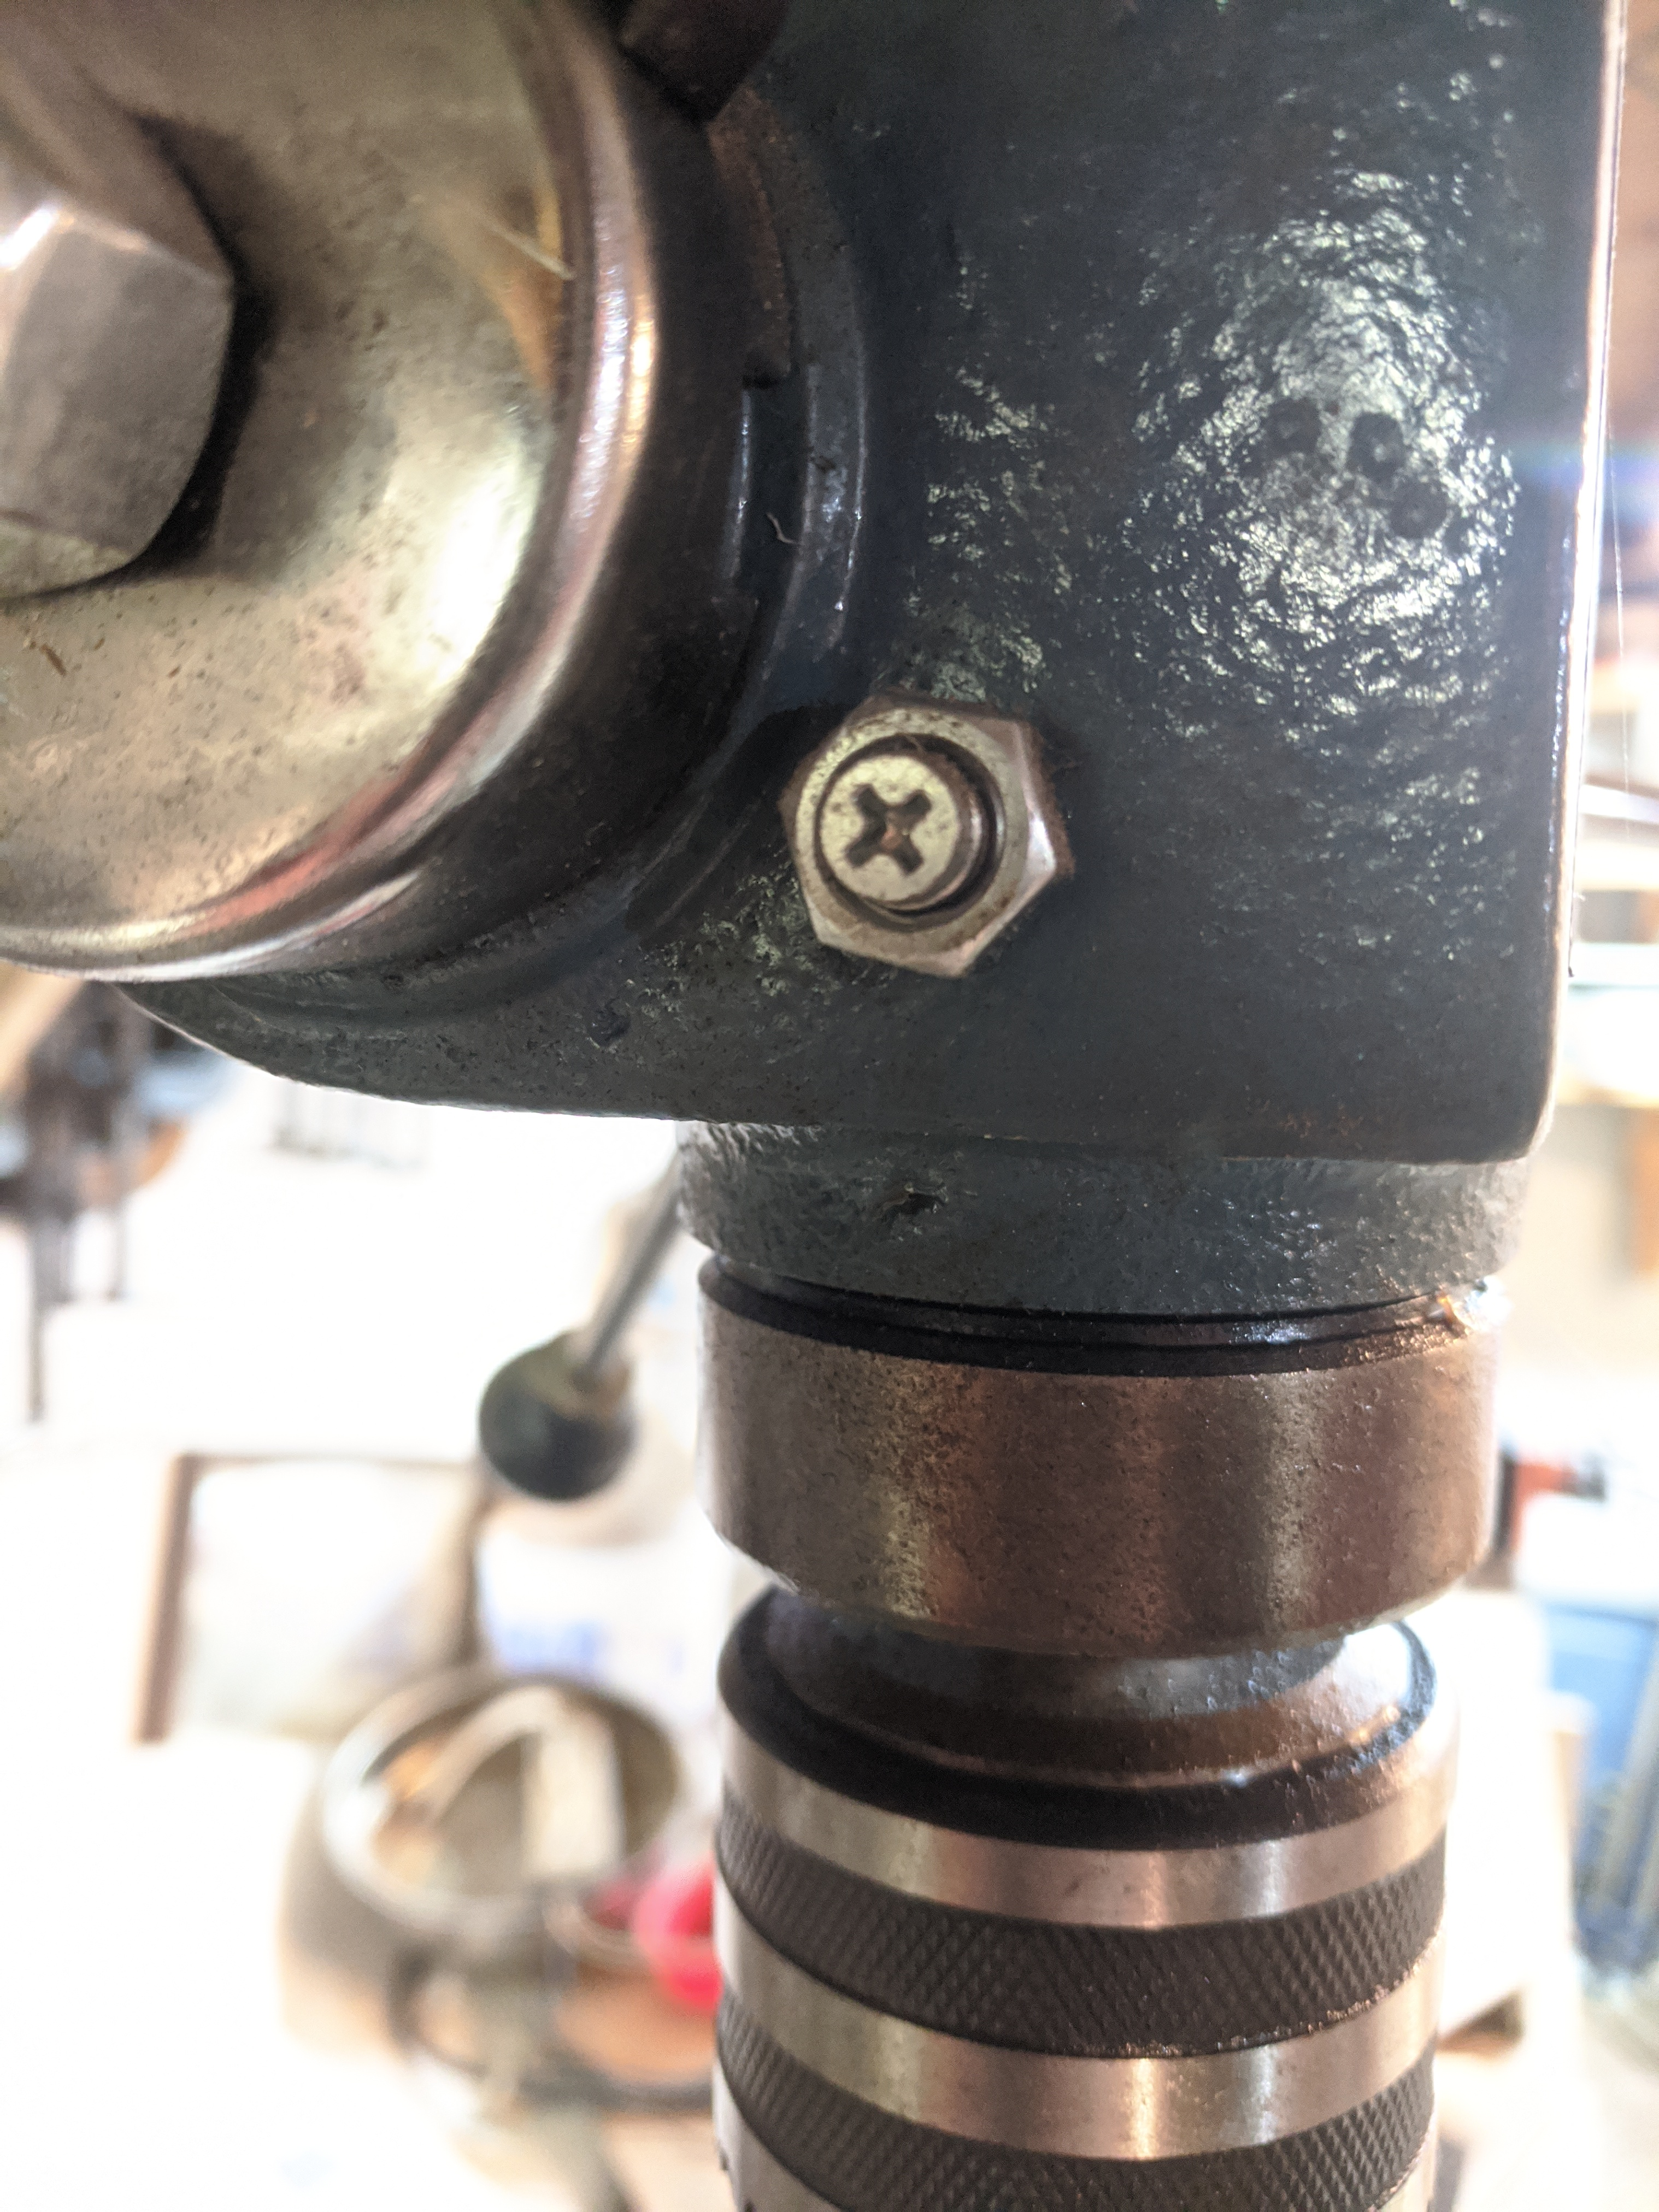cross_recessed_screw: (807, 745, 981, 916)
